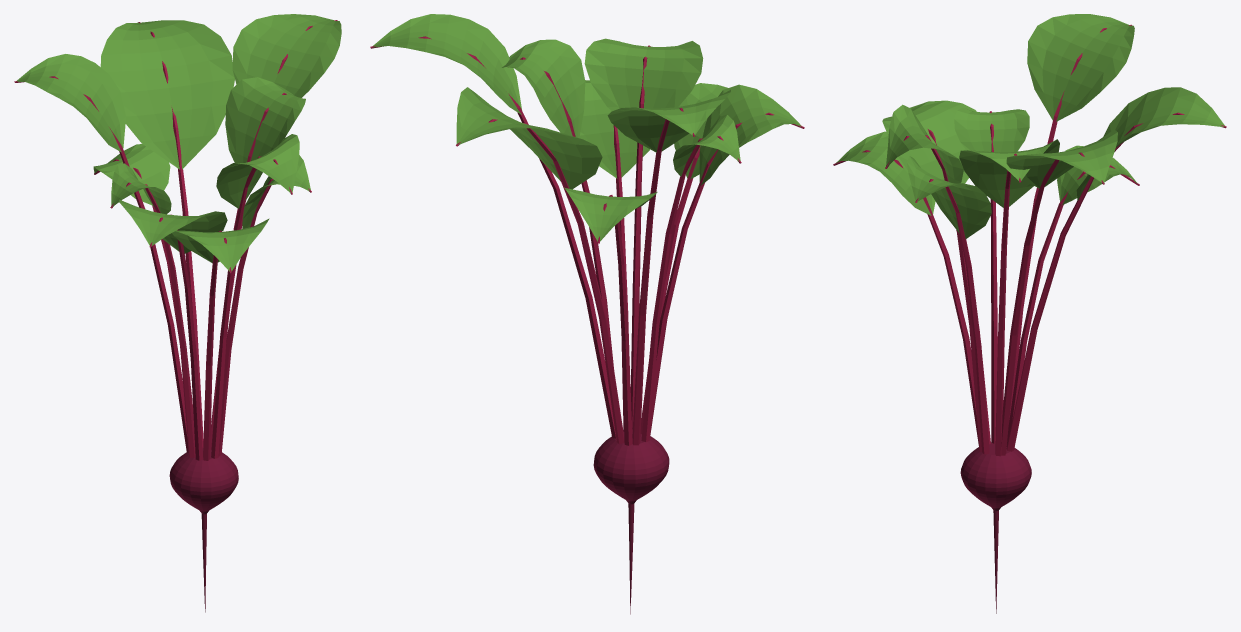
The model's file is beetroot_harvest_v04.glb.
3 views of the same model, side by side, from view 1: azimuth 30°, elevation 25°; view 2: azimuth 150°, elevation 25°; view 3: azimuth 270°, elevation 25° (orthographic). The views are drawn at different scales.
Visible parts, largest first — view 1: plant; view 2: plant; view 3: plant.
Boxes of the visible parts, left/top/right/bottom form: plant: left=14, top=14, right=341, bottom=612; plant: left=370, top=14, right=804, bottom=614; plant: left=833, top=14, right=1226, bottom=613.
Bounding box in the file's own units: 0.2729 × 0.4485 × 0.2936.
Materials: 1 (1 with a texture image).
